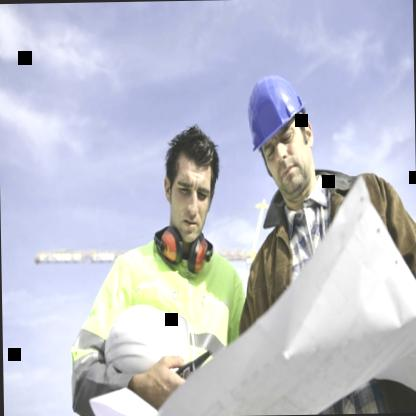head: (158, 120, 230, 242)
helmet: (235, 58, 326, 210)
